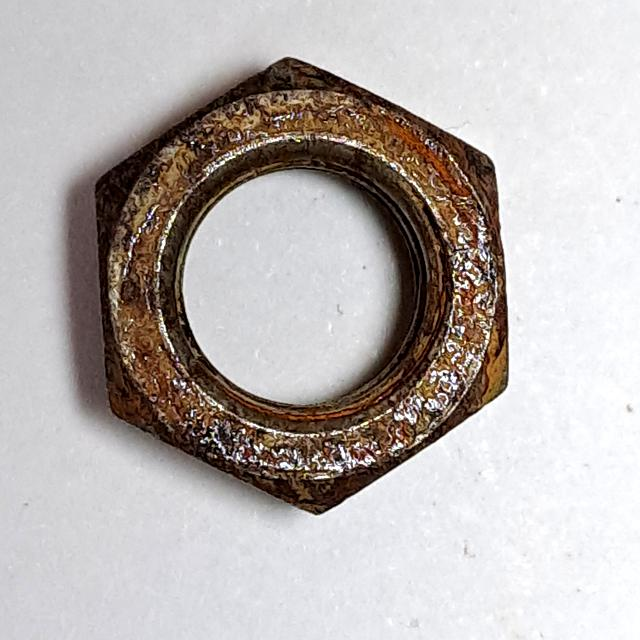Rust: (81, 45, 533, 535)
